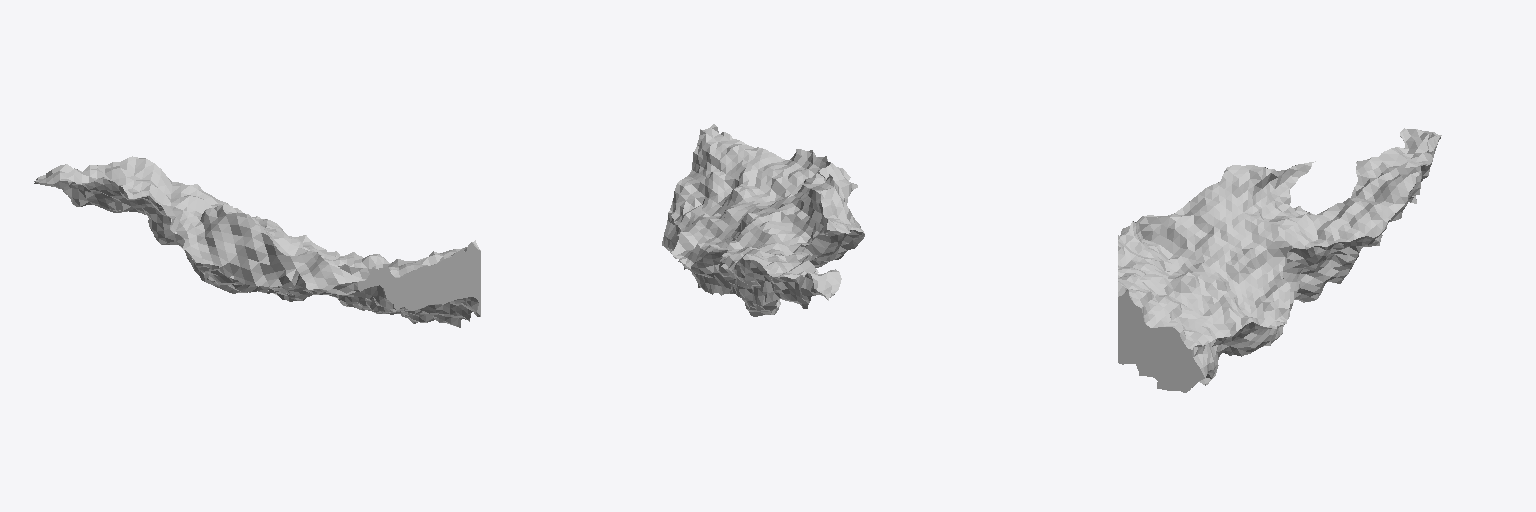
Rendered from Cube_shard.002.obj.
3 renders of one model, left to right at view 1: azimuth 30°, elevation 25°; view 2: azimuth 150°, elevation 25°; view 3: azimuth 270°, elevation 25°, orthographic.
Parts seen in each view (by area): view 1: Cube_shard.002_Cube_shard.142; view 2: Cube_shard.002_Cube_shard.142; view 3: Cube_shard.002_Cube_shard.142.
Part boxes in pixels (bbox=[...]): Cube_shard.002_Cube_shard.142: bbox=[34, 156, 480, 327]; Cube_shard.002_Cube_shard.142: bbox=[662, 124, 864, 316]; Cube_shard.002_Cube_shard.142: bbox=[1118, 128, 1441, 392].
Bounding box in the file's own units: 1.81 × 0.8508 × 1.76.